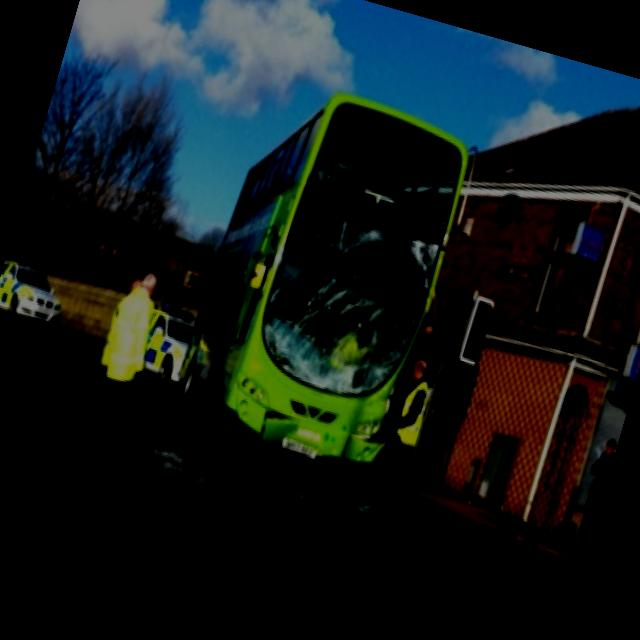Vehicle: (162, 67, 484, 484), (0, 259, 69, 330), (135, 308, 196, 386)
